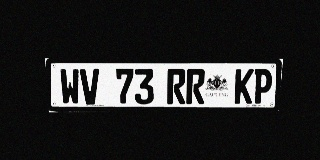3: (134, 69, 153, 104)
7: (115, 69, 134, 104)
K: (234, 69, 254, 104)
P: (252, 69, 273, 104)
R: (167, 69, 186, 104), (186, 69, 205, 104)
V: (80, 69, 100, 105)
W: (59, 69, 81, 105)
